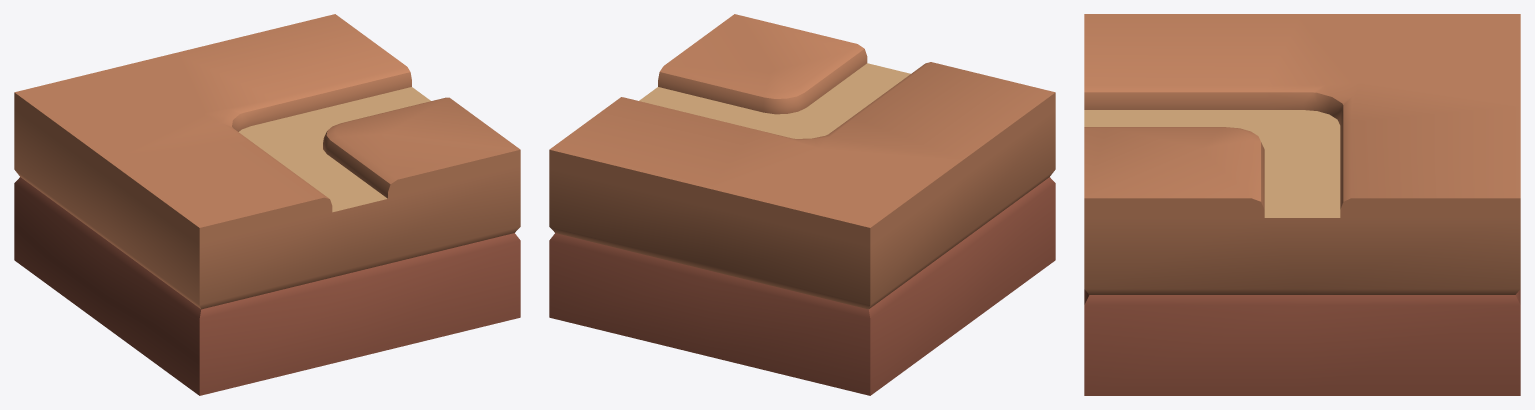
The model's file is square_rock_roadC_detail.glb.
3 renders of one model, left to right at view 1: azimuth 30°, elevation 25°; view 2: azimuth 150°, elevation 25°; view 3: azimuth 270°, elevation 25°, orthographic. The views are drawn at different scales.
Visible parts, largest first — view 1: square_rock_roadC_detail; view 2: square_rock_roadC_detail; view 3: square_rock_roadC_detail.
Boxes of the visible parts, x1,y1,x2,y2 form: square_rock_roadC_detail: [14, 14, 520, 395]; square_rock_roadC_detail: [549, 14, 1055, 395]; square_rock_roadC_detail: [1084, 14, 1520, 395].
Size of the model in its own units: 2 by 1 by 2.
